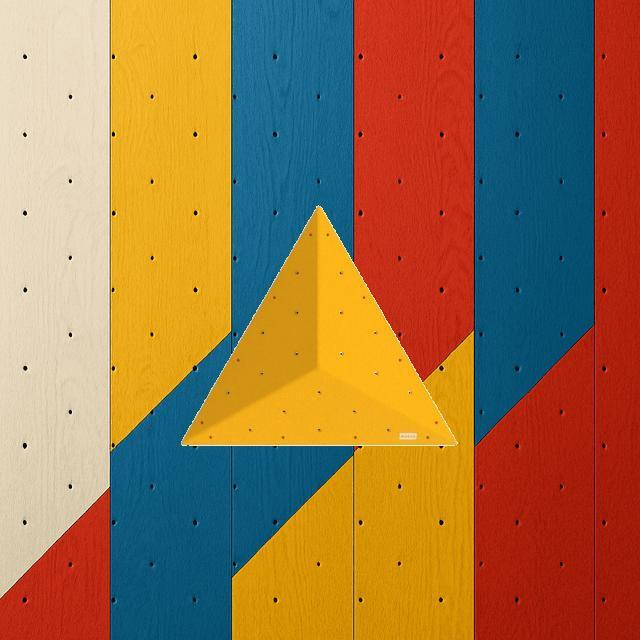Volume: (180, 205, 458, 447)
